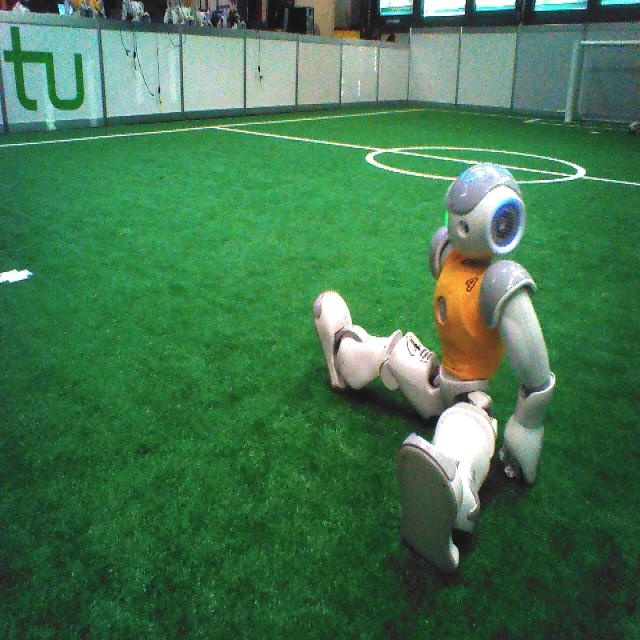ball: (629, 120, 640, 133)
goalpost: (563, 37, 584, 124)
